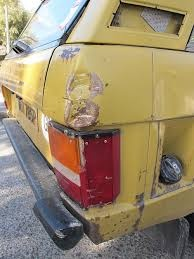Dent: (8, 57, 46, 99)
Scratch: (49, 192, 149, 248), (55, 71, 116, 129), (136, 157, 187, 201), (59, 45, 87, 62)
